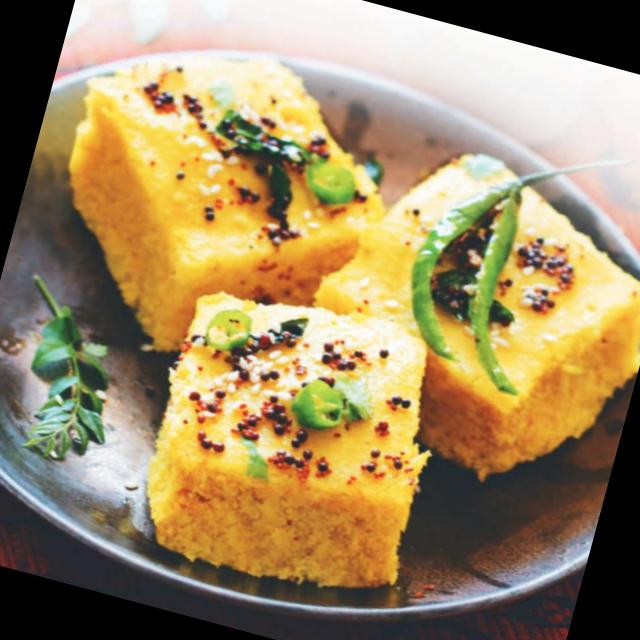dhokla: (0, 29, 635, 623)
